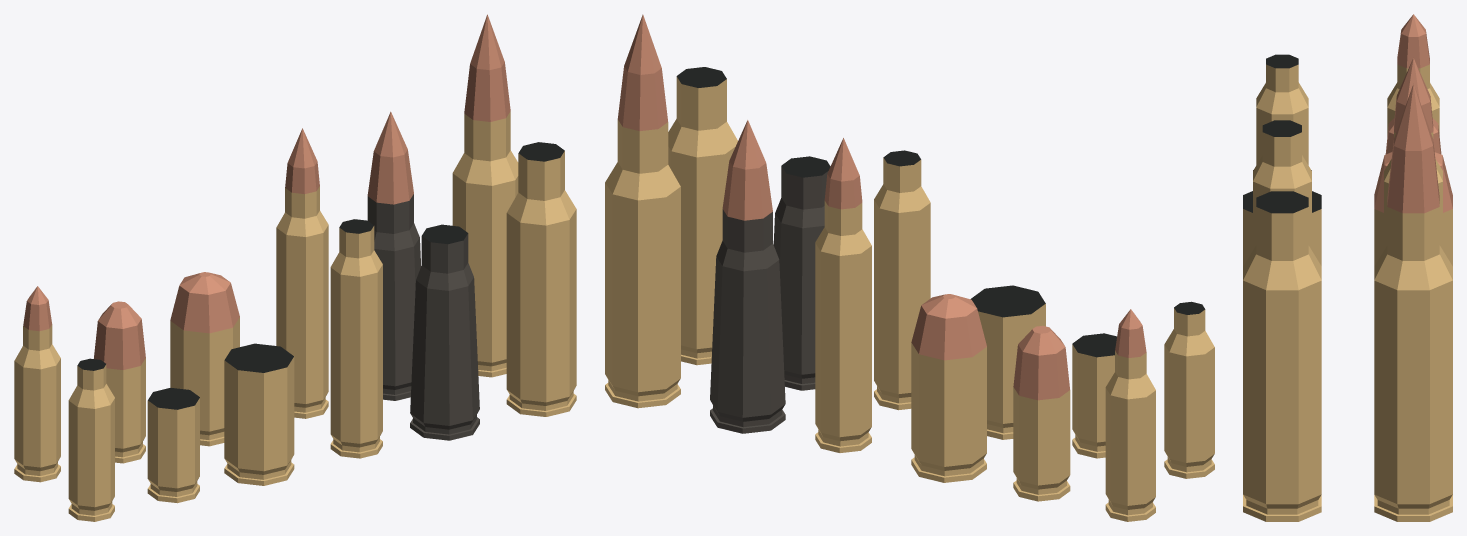
The model's file is cartridges.fbx.
3 views of the same model, side by side, from view 1: azimuth 30°, elevation 25°; view 2: azimuth 150°, elevation 25°; view 3: azimuth 270°, elevation 25° (orthographic). The views are drawn at different scales.
Parts seen in each view (by area): view 1: cartridges v2 - 308_case, cartridges v2 - 308, cartridges v2 - 762_case, cartridges v2 - 556_case, cartridges v2 - 556, cartridges v2 - 762, cartridges v2 - 45acp_case, cartridges v2 - 45acp, cartridges v2 - pdw, cartridges v2 - pdw_case, cartridges v2 - 9mm, cartridges v2 - 9mm_case; view 2: cartridges v2 - 308, cartridges v2 - 762, cartridges v2 - 556, cartridges v2 - 45acp, cartridges v2 - 308_case, cartridges v2 - 556_case, cartridges v2 - 9mm, cartridges v2 - 762_case, cartridges v2 - pdw, cartridges v2 - pdw_case, cartridges v2 - 45acp_case, cartridges v2 - 9mm_case; view 3: cartridges v2 - 308, cartridges v2 - 308_case, cartridges v2 - 556_case, cartridges v2 - pdw_case, cartridges v2 - pdw, cartridges v2 - 556, cartridges v2 - 45acp, cartridges v2 - 45acp_case, cartridges v2 - 9mm.
Part boxes in pixels (x1,y1,x2,y2): cartridges v2 - 308_case: (506,142,576,416); cartridges v2 - 308: (452,14,518,377); cartridges v2 - 762_case: (410,224,479,440); cartridges v2 - 556_case: (330,219,382,458); cartridges v2 - 556: (276,128,328,418); cartridges v2 - 762: (367,111,421,400); cartridges v2 - 45acp_case: (224,343,294,485); cartridges v2 - 45acp: (170,272,239,446); cartridges v2 - pdw: (14,286,60,482); cartridges v2 - pdw_case: (68,358,114,521); cartridges v2 - 9mm: (94,301,145,463); cartridges v2 - 9mm_case: (147,387,199,503); cartridges v2 - 308: (605,14,680,408); cartridges v2 - 762: (710,120,785,433); cartridges v2 - 556: (815,138,871,452); cartridges v2 - 45acp: (911,294,986,482); cartridges v2 - 308_case: (668,67,737,365); cartridges v2 - 556_case: (874,150,930,410); cartridges v2 - 9mm: (1013,325,1070,501); cartridges v2 - 762_case: (773,156,830,390); cartridges v2 - pdw: (1105,309,1155,521); cartridges v2 - pdw_case: (1164,301,1214,478); cartridges v2 - 45acp_case: (970,285,1045,439); cartridges v2 - 9mm_case: (1072,333,1116,458); cartridges v2 - 308: (1374,84,1452,521); cartridges v2 - 308_case: (1243,191,1321,521); cartridges v2 - 556_case: (1253,120,1311,249); cartridges v2 - pdw_case: (1256,54,1308,165); cartridges v2 - pdw: (1387,14,1439,136); cartridges v2 - 556: (1384,58,1442,249); cartridges v2 - 45acp: (1374,151,1452,266); cartridges v2 - 45acp_case: (1243,191,1321,266); cartridges v2 - 9mm: (1385,118,1441,154).
Bounding box in the file's own units: 10.58 × 7.1 × 3.2.
12 materials, 12 textured.
